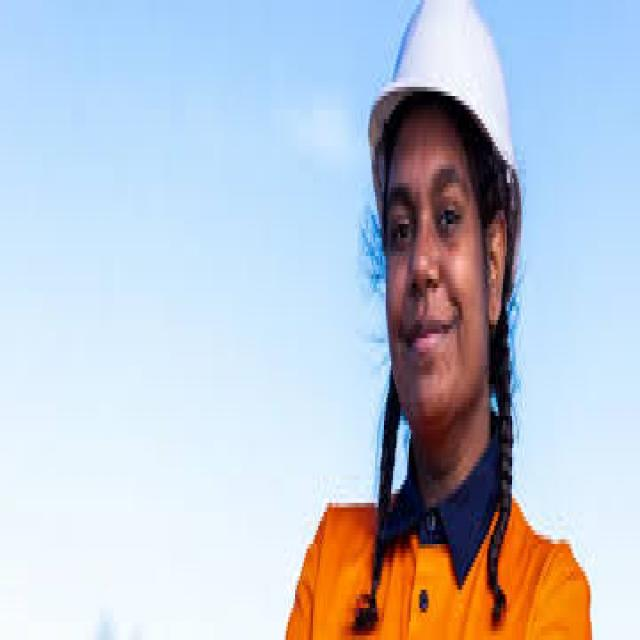Reflective-Jacket: (281, 475, 597, 640)
Safety-Helmet: (363, 0, 526, 215)
